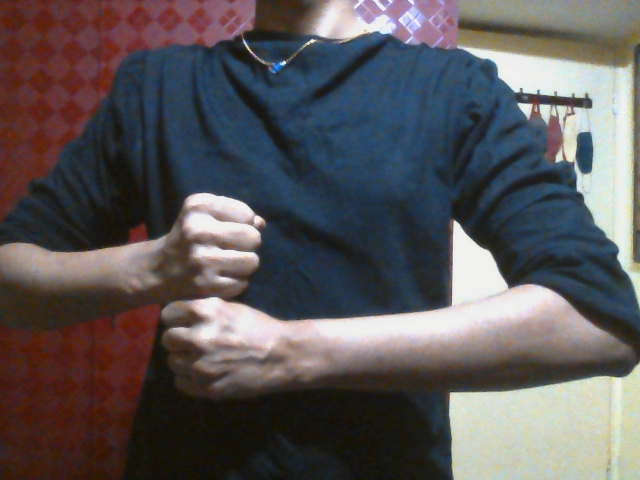G: (159, 191, 294, 401)
